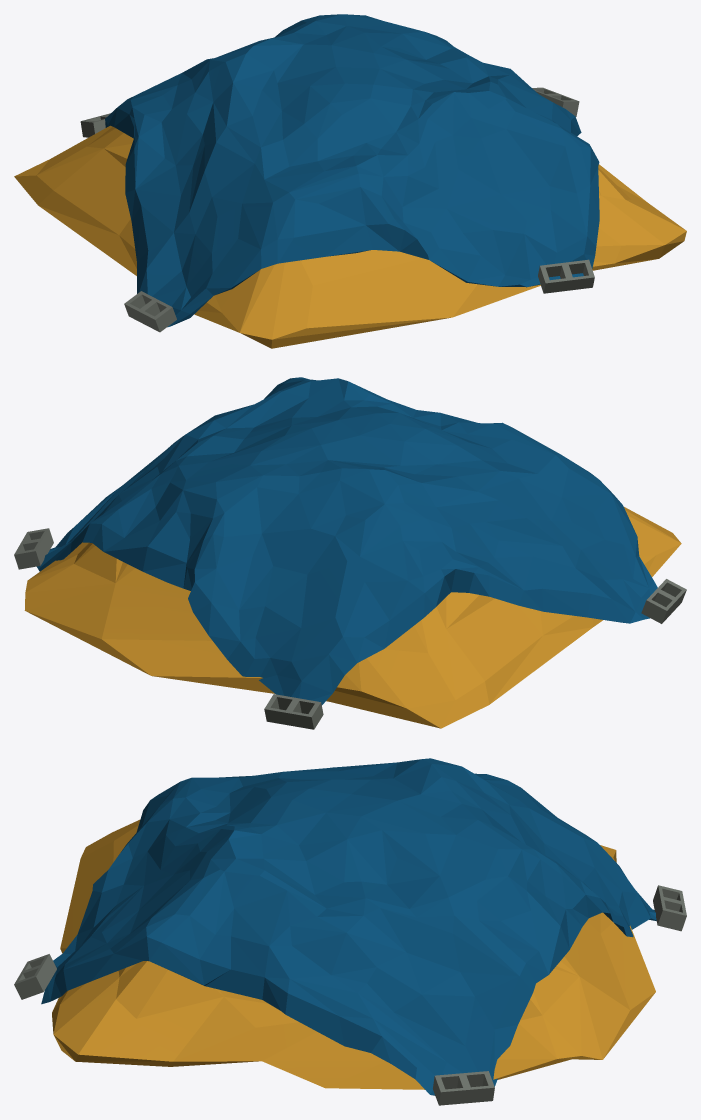
Rendered from SM_Pile_Of_Sand.glb.
3 views of the same model, one above another, from view 1: azimuth 30°, elevation 25°; view 2: azimuth 150°, elevation 25°; view 3: azimuth 270°, elevation 25° (orthographic). The views are drawn at different scales.
Visible parts, largest first — view 1: SM_Pile_Of_Sand; view 2: SM_Pile_Of_Sand; view 3: SM_Pile_Of_Sand.
Boxes of the visible parts, bbox=[...] form: SM_Pile_Of_Sand: bbox=[14, 14, 686, 348]; SM_Pile_Of_Sand: bbox=[14, 377, 686, 729]; SM_Pile_Of_Sand: bbox=[14, 758, 686, 1105].
Size of the model in its own units: 3.19 by 0.9224 by 3.14.
1 material, 1 textured.
